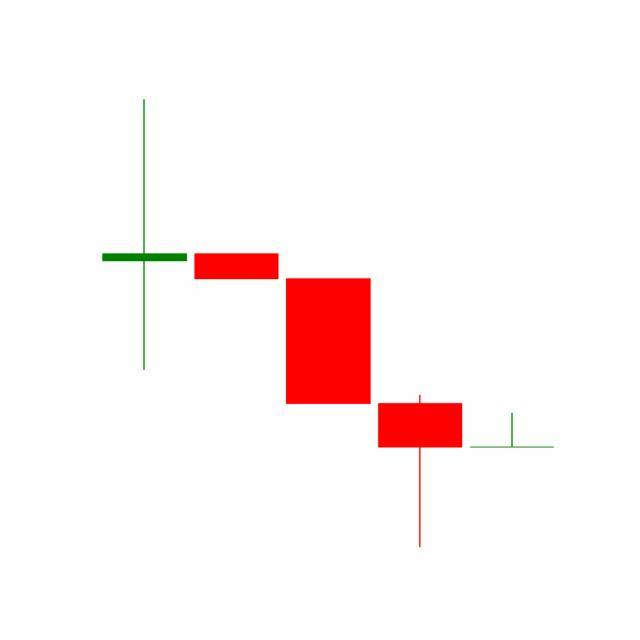Hammer: (374, 394, 468, 550)
